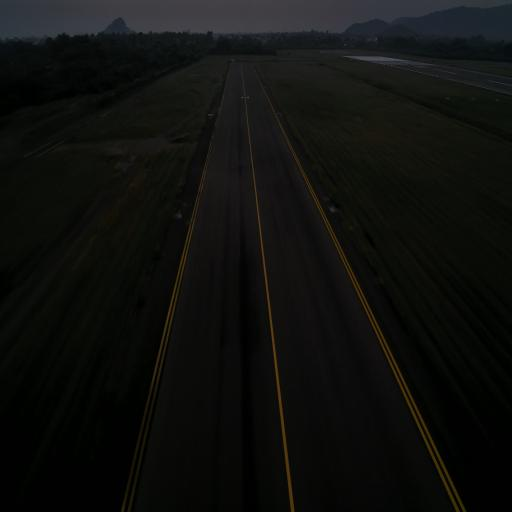on: (330, 202, 336, 211), (178, 208, 182, 216)
